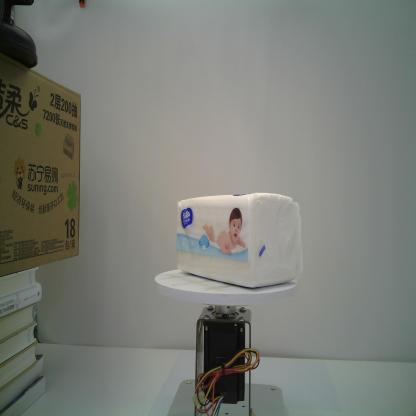Tissue: (175, 191, 302, 289)
